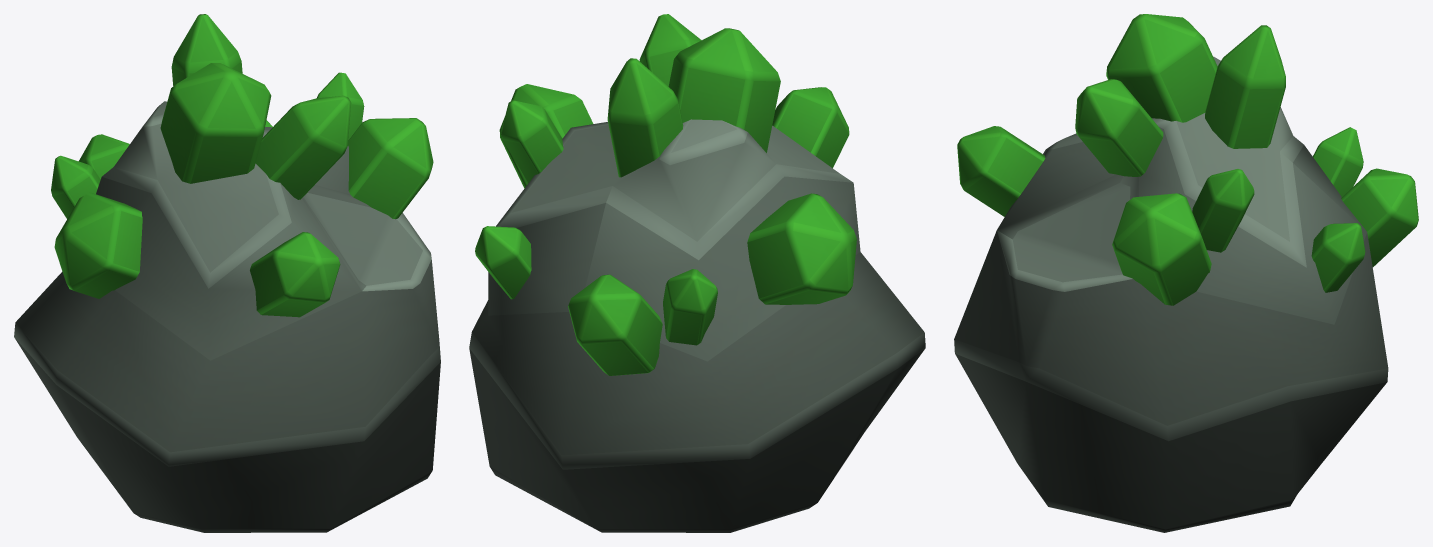
The model's file is ore_christal_emerald_L.fbx.
The picture shows the model from 3 angles, left to right: view 1: azimuth 30°, elevation 25°; view 2: azimuth 150°, elevation 25°; view 3: azimuth 270°, elevation 25°; orthographic projection. The views are drawn at different scales.
Visible parts, largest first — view 1: ore_christal_emerald_L; view 2: ore_christal_emerald_L; view 3: ore_christal_emerald_L.
Part boxes in pixels (x1=…): ore_christal_emerald_L: x1=14, y1=14, x2=440, y2=532; ore_christal_emerald_L: x1=469, y1=14, x2=925, y2=532; ore_christal_emerald_L: x1=954, y1=14, x2=1418, y2=532.
Bounding box in the file's own units: 211 × 252 × 218.
1 material, 1 textured.
